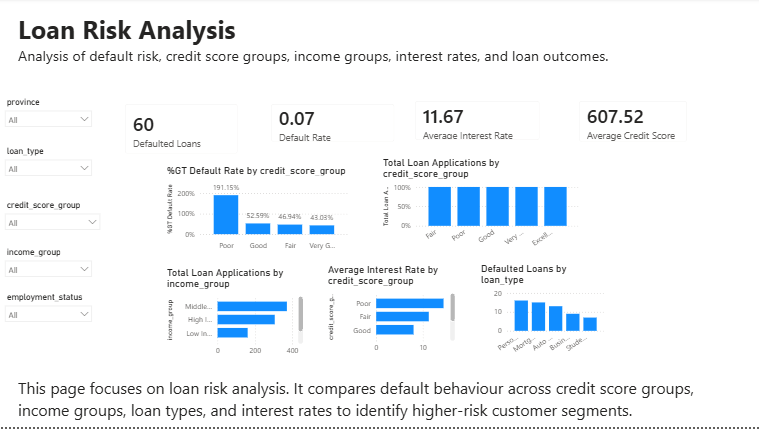

Layout of this report page (visuals, bound fields, positions):
{"tool":"powerbi","page":{"name":"Loan Risk Analysis","canvas":[1280,720],"ordinal":1},"visuals":[{"type":"textbox","box":[26.9,18.5,1194.3,105.8],"z":0},{"type":"cardVisual","fields":{"Data":["Measures (2).Defaulted Loans"]},"box":[194.9,161.3,223.4,117.6],"z":1000},{"type":"cardVisual","fields":{"Data":["Measures (2).Default Rate"]},"box":[440.1,161.3,241.9,97.4],"z":2000},{"type":"cardVisual","fields":{"Data":["Measures (2).Average Interest Rate"]},"box":[682,156.2,243.6,99.1],"z":3000},{"type":"cardVisual","fields":{"Data":["Measures (2).Average Credit Score"]},"box":[957.5,156.2,215,102.5],"z":4000},{"type":"clusteredColumnChart","fields":{"Category":["loan_analysis_view.credit_score_group"],"Y":["Measures (2).Default Rate"]},"box":[277.2,278.8,314.1,152.9],"z":5000},{"type":"hundredPercentStackedColumnChart","fields":{"Category":["loan_analysis_view.credit_score_group"],"Y":["Measures (2).Total Loan Applications"]},"box":[640,265.4,339.3,166.3],"z":6000},{"type":"barChart","fields":{"Category":["loan_analysis_view.income_group"],"Y":["Measures (2).Total Loan Applications"]},"box":[277.2,450.2,238.5,159.6],"z":7000},{"type":"clusteredBarChart","fields":{"Category":["loan_analysis_view.credit_score_group"],"Y":["Measures (2).Average Interest Rate"]},"box":[547.6,445.1,223.4,159.6],"z":8000},{"type":"clusteredColumnChart","fields":{"Category":["loan_analysis_view.loan_type"],"Y":["Measures (2).Defaulted Loans"]},"box":[804.6,443.5,216.7,164.6],"z":9000},{"type":"slicer","fields":{"Values":["loan_analysis_view.province"]},"box":[0,161.3,166.3,68.9],"z":10000},{"type":"slicer","fields":{"Values":["loan_analysis_view.loan_type"]},"box":[0,243.6,166.3,89],"z":11000},{"type":"slicer","fields":{"Values":["loan_analysis_view.credit_score_group"]},"box":[0,334.3,179.7,60.5],"z":12000},{"type":"slicer","fields":{"Values":["loan_analysis_view.income_group"]},"box":[0,413.2,166.3,62.2],"z":13000},{"type":"slicer","fields":{"Values":["loan_analysis_view.employment_status"]},"box":[0,488.8,166.3,82.3],"z":14000},{"type":"textbox","box":[26.9,631.6,1212.8,89],"z":15000}]}

Visuals, with their boxes in screenshot pixels (x1, y1, x2, y2), scaled from the page's 1280x720 canvas onto the 759x432 screenshot:
textbox: {"x1": 16, "y1": 11, "x2": 724, "y2": 75}
cardVisual - Measures (2).Defaulted Loans: {"x1": 116, "y1": 97, "x2": 248, "y2": 167}
cardVisual - Measures (2).Default Rate: {"x1": 261, "y1": 97, "x2": 404, "y2": 155}
cardVisual - Measures (2).Average Interest Rate: {"x1": 404, "y1": 94, "x2": 549, "y2": 153}
cardVisual - Measures (2).Average Credit Score: {"x1": 568, "y1": 94, "x2": 695, "y2": 155}
clusteredColumnChart - loan_analysis_view.credit_score_group x Measures (2).Default Rate: {"x1": 164, "y1": 167, "x2": 351, "y2": 259}
hundredPercentStackedColumnChart - loan_analysis_view.credit_score_group x Measures (2).Total Loan Applications: {"x1": 380, "y1": 159, "x2": 581, "y2": 259}
barChart - loan_analysis_view.income_group x Measures (2).Total Loan Applications: {"x1": 164, "y1": 270, "x2": 306, "y2": 366}
clusteredBarChart - loan_analysis_view.credit_score_group x Measures (2).Average Interest Rate: {"x1": 325, "y1": 267, "x2": 457, "y2": 363}
clusteredColumnChart - loan_analysis_view.loan_type x Measures (2).Defaulted Loans: {"x1": 477, "y1": 266, "x2": 606, "y2": 365}
slicer - loan_analysis_view.province: {"x1": 0, "y1": 97, "x2": 99, "y2": 138}
slicer - loan_analysis_view.loan_type: {"x1": 0, "y1": 146, "x2": 99, "y2": 200}
slicer - loan_analysis_view.credit_score_group: {"x1": 0, "y1": 201, "x2": 107, "y2": 237}
slicer - loan_analysis_view.income_group: {"x1": 0, "y1": 248, "x2": 99, "y2": 285}
slicer - loan_analysis_view.employment_status: {"x1": 0, "y1": 293, "x2": 99, "y2": 343}
textbox: {"x1": 16, "y1": 379, "x2": 735, "y2": 431}
